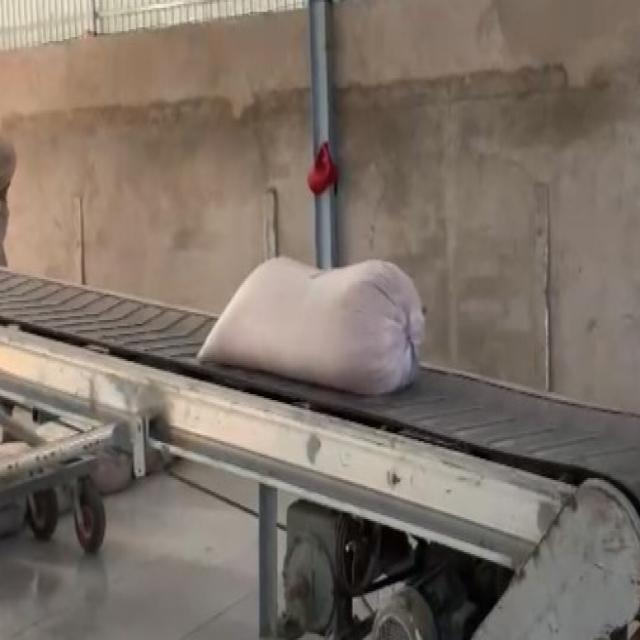gunny_bag: (198, 256, 425, 394)
